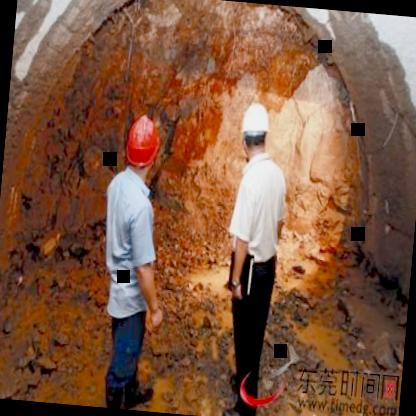helmet: (121, 108, 165, 178), (240, 99, 271, 164)
